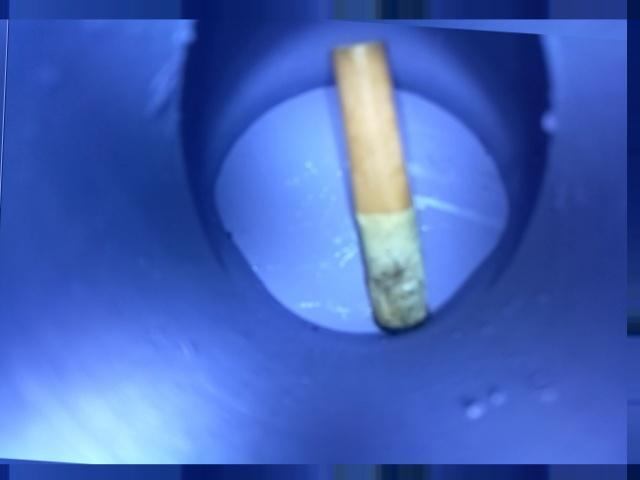megot: (306, 30, 456, 342)
